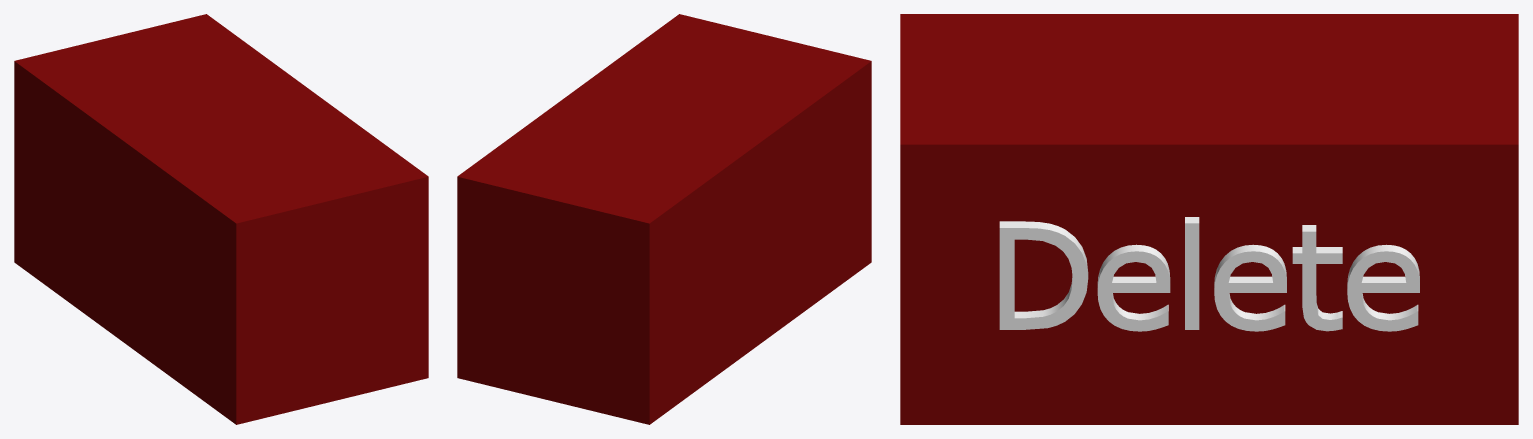
Rendered from Delete.dae.
3 renders of one model, left to right at view 1: azimuth 30°, elevation 25°; view 2: azimuth 150°, elevation 25°; view 3: azimuth 270°, elevation 25°, orthographic. The views are drawn at different scales.
Parts seen in each view (by area): view 1: SketchUp; view 2: SketchUp; view 3: SketchUp, Delete (×6).
Part boxes in pixels (x1,y1,x2,y2): SketchUp: (14, 14, 428, 424); SketchUp: (457, 14, 871, 424); SketchUp: (900, 14, 1518, 424); Delete (×6): (999, 217, 1419, 331).
Size of the model in its own units: 21 by 40 by 20.
